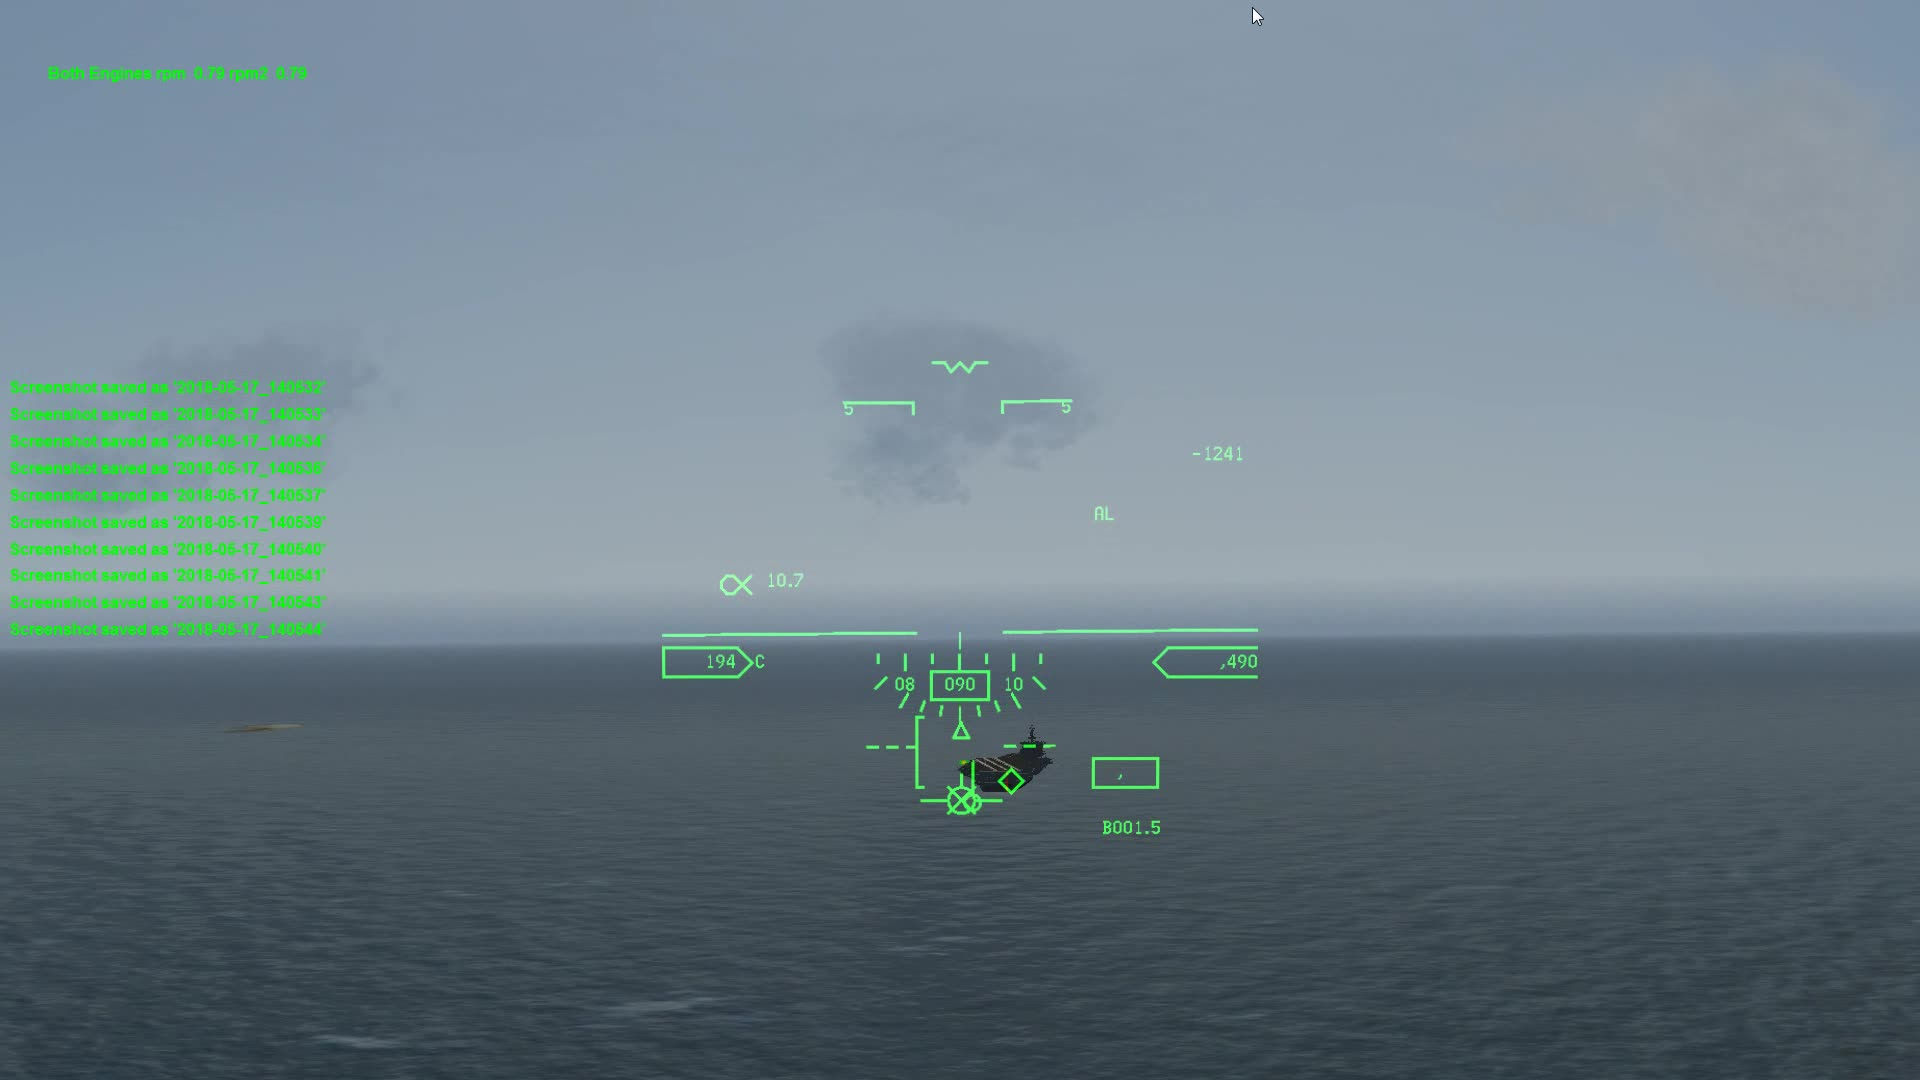speed vector: (920, 778, 998, 822)
